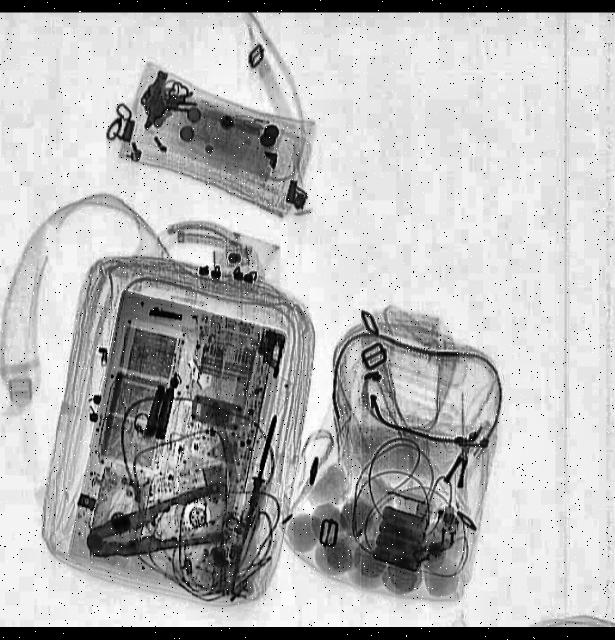Pliers: (80, 480, 236, 573)
